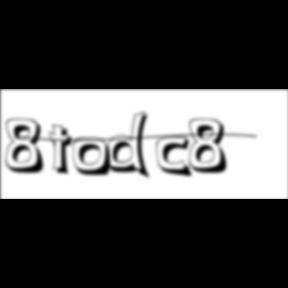8: (6, 117, 50, 176), (190, 117, 234, 176)
c: (157, 136, 197, 180)
d: (106, 110, 156, 182)
o: (73, 137, 115, 179)
t: (50, 124, 80, 179)
